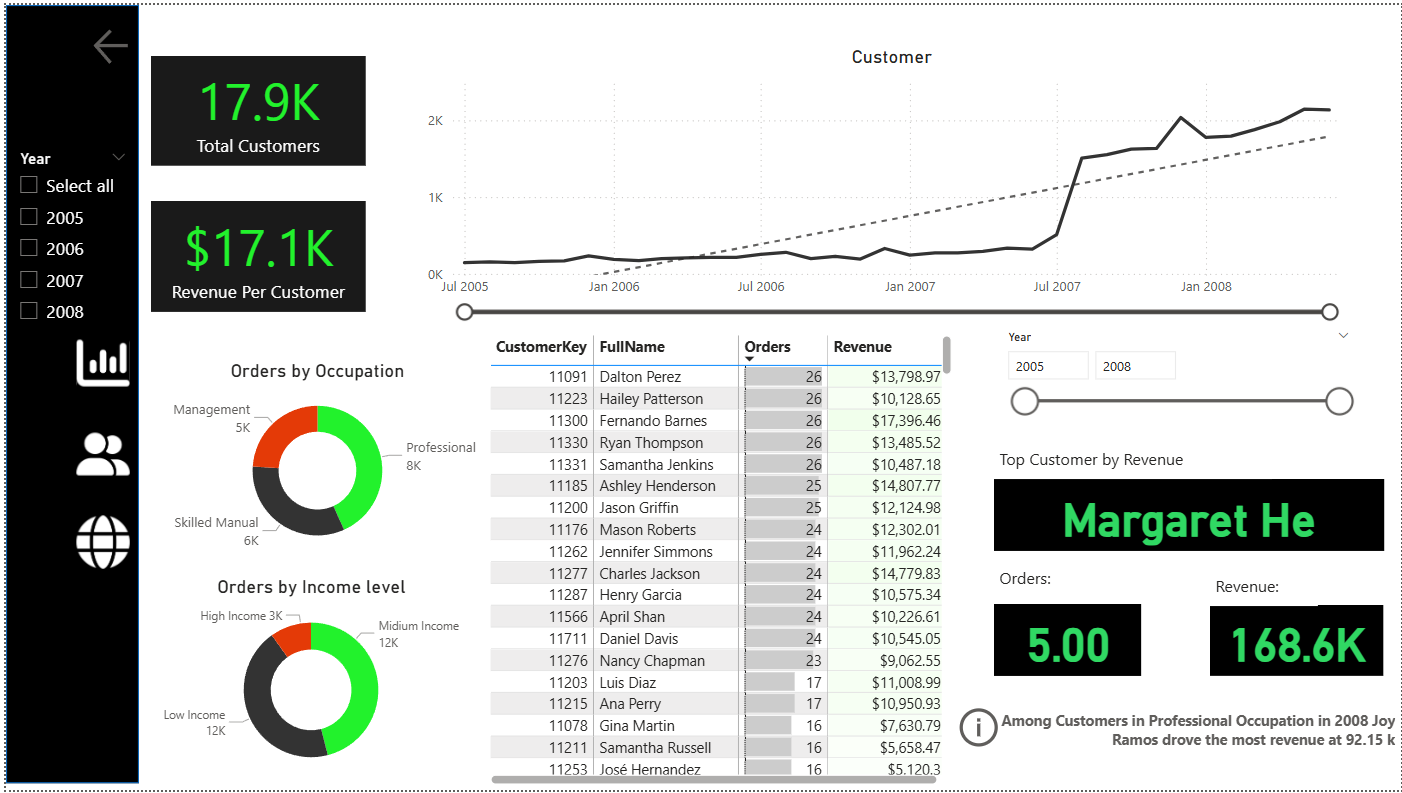

Layout of this report page (visuals, bound fields, positions):
{"tool":"powerbi","page":{"name":"customer","canvas":[1280,720],"ordinal":2},"visuals":[{"type":"shape","box":[133.3,46.6,197.3,100.8],"z":0},{"type":"shape","box":[133.3,179.9,197.3,101.9],"z":1000},{"type":"actionButton","box":[60.3,300.3,60.3,57],"z":2000,"group":"g1"},{"type":"card","fields":{"Values":["Measure.Total Customers"]},"box":[133.3,46.6,197.3,100.8],"z":2000},{"type":"actionButton","box":[60.3,464.7,60.3,57],"z":3000,"group":"g1"},{"type":"card","fields":{"Values":["Measure.Average Revenue Per Customer"]},"box":[133.3,179.9,197.3,101.9],"z":3000},{"type":"lineChart","title":"Customer","fields":{"Category":["Calender Lookup.Start of Week","Calender Lookup.Start of Month","Calender Lookup.Start of Year"],"Y":["Measure.Total Customers"]},"box":[381.6,37.5,861.9,255.1],"z":4000},{"type":"actionButton","box":[60.3,383.6,60.3,57],"z":4000,"group":"g1"},{"type":"donutChart","title":"Orders by Occupation","fields":{"Category":["Customer.EnglishOccupation"],"Y":["Measure.Total Orders"]},"box":[133.3,325.5,305.6,184.1],"z":5000},{"type":"donutChart","title":"Orders by Income level","fields":{"Y":["Measure.Total Orders"],"Category":["Customer.Income level"]},"box":[122.4,524.1,316.5,190.4],"z":6000},{"type":"slicer","fields":{"Values":["Calender Lookup.Year"]},"box":[906.1,293.7,338.2,99.7],"z":7000},{"type":"tableEx","fields":{"Values":["Customer.CustomerKey","Customer.FullName","Measure.Total Orders","Measure.Net Revenue"]},"box":[438.9,298.3,434.4,421.7],"z":8000},{"type":"card","fields":{"Values":["Measure.Full Name (Customer Detail)"]},"box":[906.1,434.6,357.7,66.1],"z":9000},{"type":"card","fields":{"Values":["Measure.Total Orders (Customer Detail)"]},"box":[906.1,549.5,135.5,66.1],"z":10000},{"type":"card","fields":{"Values":["Measure.Total Revenue(Customer Detail)"]},"box":[1104.4,550.6,159.3,65],"z":11000},{"type":"textbox","box":[906.1,401,254.7,33.6],"z":12000},{"type":"textbox","box":[906.1,510.5,107.3,39],"z":13000},{"type":"textbox","box":[1104.4,517,98.6,33.6],"z":14000},{"type":"actionButton","box":[873.2,635.7,407.2,53.5],"z":15000},{"type":"shape","box":[0,0,122.5,714.2],"z":16000},{"type":"group","id":"g1","title":"Nav","box":[60.3,300.3,60.3,221.4],"z":17000},{"type":"slicer","fields":{"Values":["Calender Lookup.Year"]},"box":[0,127.1,122.4,176.5],"z":18000},{"type":"actionButton","box":[76.2,17.2,46.2,41.7],"z":19000}]}

Visuals, with their boxes in screenshot pixels (x1, y1, x2, y2), scaled from the page's 1280x720 canvas onto the 1402x793 screenshot:
shape: (146, 51, 362, 162)
shape: (146, 198, 362, 310)
actionButton: (66, 331, 132, 394)
card - Measure.Total Customers: (146, 51, 362, 162)
actionButton: (66, 512, 132, 575)
card - Measure.Average Revenue Per Customer: (146, 198, 362, 310)
"Customer" lineChart: (418, 41, 1362, 322)
actionButton: (66, 422, 132, 485)
"Orders by Occupation" donutChart: (146, 359, 481, 561)
"Orders by Income level" donutChart: (134, 577, 481, 787)
slicer - Calender Lookup.Year: (992, 323, 1363, 433)
tableEx - Customer.CustomerKey x Customer.FullName: (481, 329, 957, 792)
card - Measure.Full Name (Customer Detail): (992, 479, 1384, 551)
card - Measure.Total Orders (Customer Detail): (992, 605, 1141, 678)
card - Measure.Total Revenue(Customer Detail): (1210, 606, 1384, 678)
textbox: (992, 442, 1271, 479)
textbox: (992, 562, 1110, 605)
textbox: (1210, 569, 1318, 606)
actionButton: (956, 700, 1401, 759)
shape: (0, 0, 134, 787)
"Nav" group: (66, 331, 132, 575)
slicer - Calender Lookup.Year: (0, 140, 134, 334)
actionButton: (83, 19, 134, 65)
